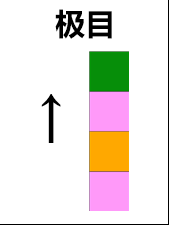arrow: (34, 86, 69, 151)
